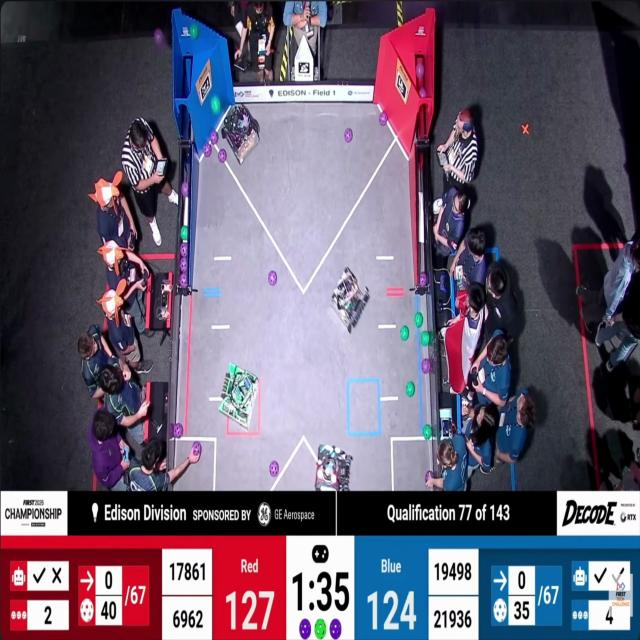artifact_green: (315, 619, 326, 639), (211, 96, 221, 114), (421, 359, 432, 374), (416, 61, 425, 78), (421, 331, 430, 346), (406, 382, 415, 397), (415, 312, 423, 328), (190, 24, 198, 39), (423, 425, 431, 440), (181, 225, 188, 241), (401, 326, 409, 340), (425, 470, 432, 484), (429, 331, 434, 343)
artifact_purple: (299, 619, 311, 639), (330, 619, 341, 639), (154, 28, 164, 45), (173, 424, 183, 439), (203, 142, 212, 158), (268, 270, 277, 286), (270, 461, 279, 477), (179, 273, 188, 288), (422, 359, 431, 374), (416, 62, 424, 78), (192, 442, 201, 456), (379, 112, 388, 126), (181, 182, 189, 197), (180, 243, 188, 258), (440, 274, 446, 293), (180, 258, 188, 272), (218, 149, 226, 163), (345, 128, 353, 142), (210, 131, 218, 144), (419, 273, 427, 286), (419, 87, 427, 98), (425, 471, 432, 483)
